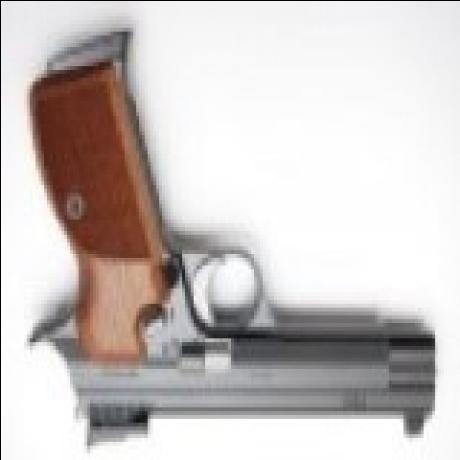weapon: (23, 31, 436, 443)
